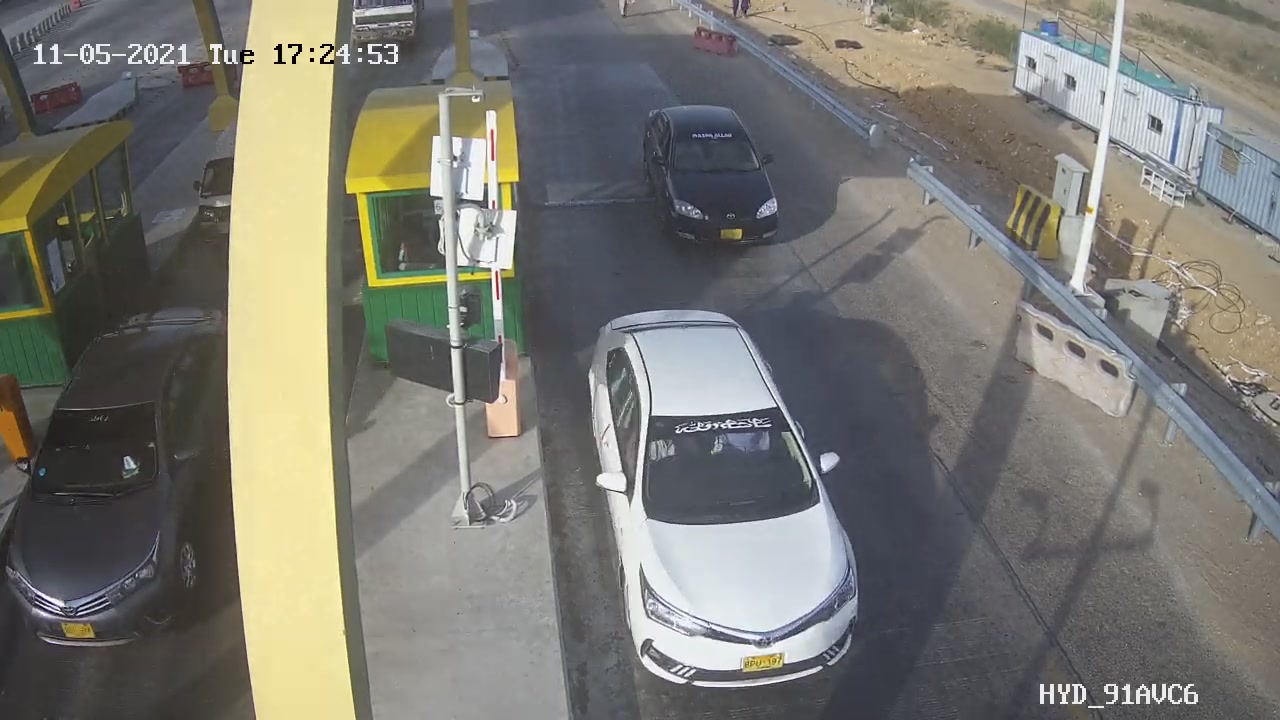F1: (627, 88, 800, 272)
